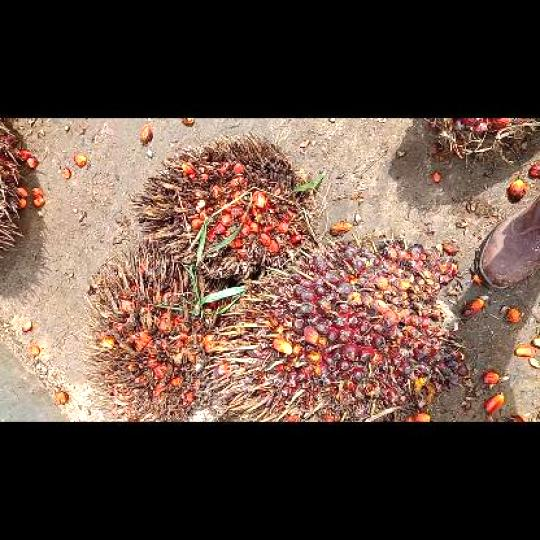masak: (203, 236, 469, 421)
terlalu masak: (129, 130, 318, 282), (78, 239, 228, 420)
